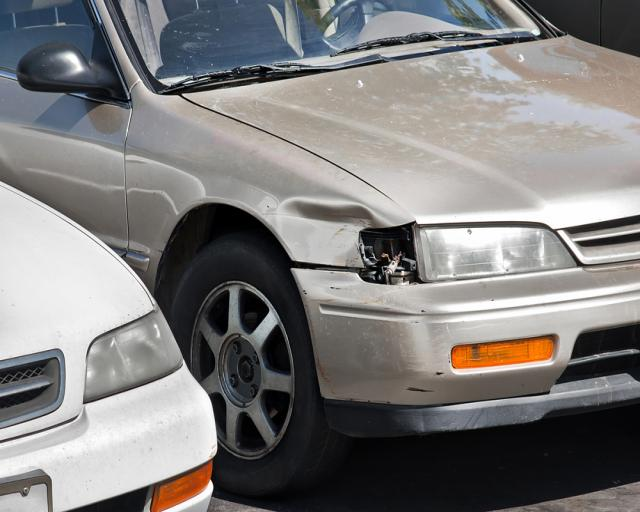dent: (280, 196, 373, 268)
scratch: (399, 349, 449, 397)
